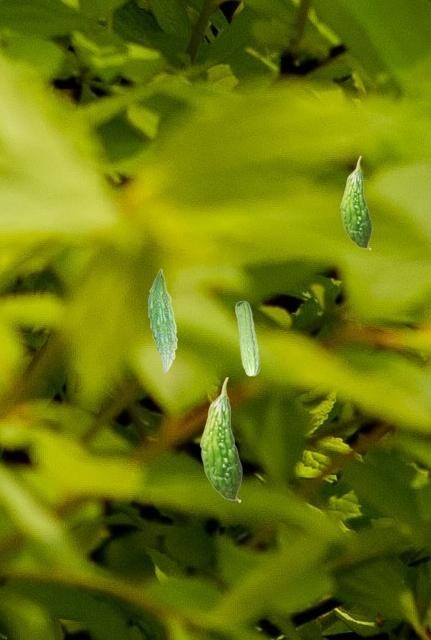ampalaya: (199, 376, 242, 503), (147, 268, 178, 374), (339, 155, 372, 250), (234, 300, 260, 376)
